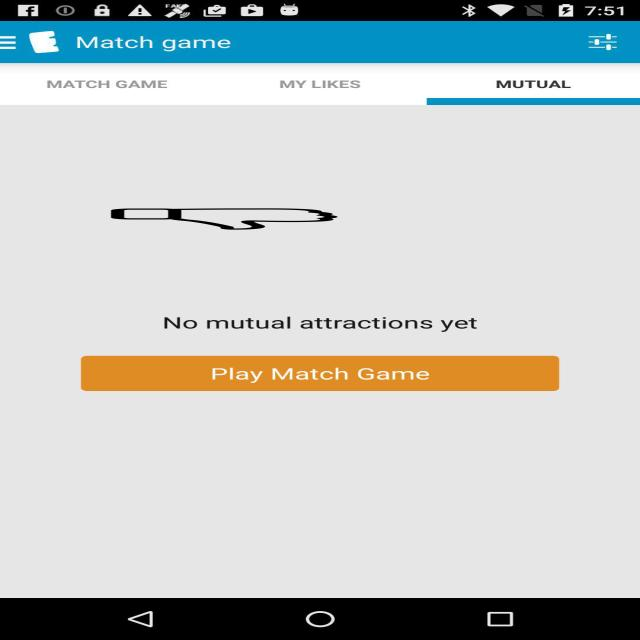obstruction: (108, 208, 341, 230)
